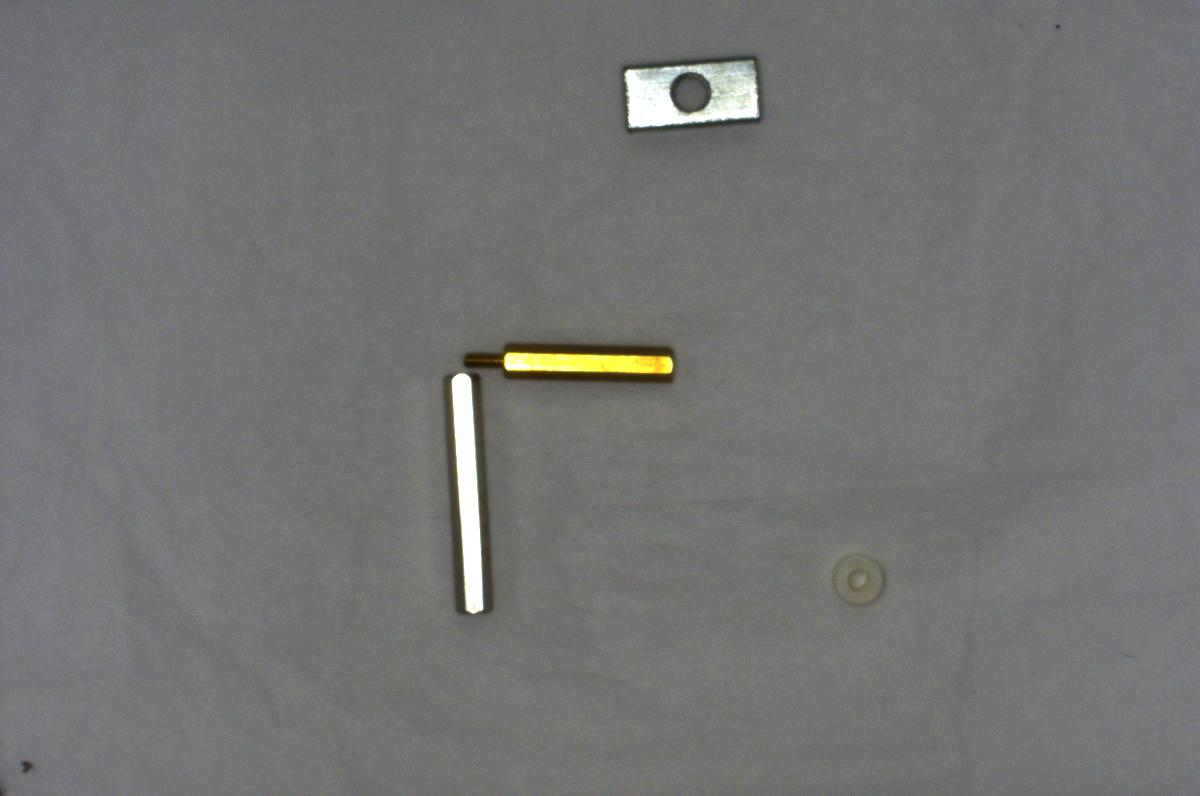Double hexagonal column: (431, 365, 502, 627)
Hexagon pillar: (440, 329, 694, 390)
Plastic cushion pillar: (830, 548, 893, 609)
Rectangular nut: (611, 42, 770, 140)
